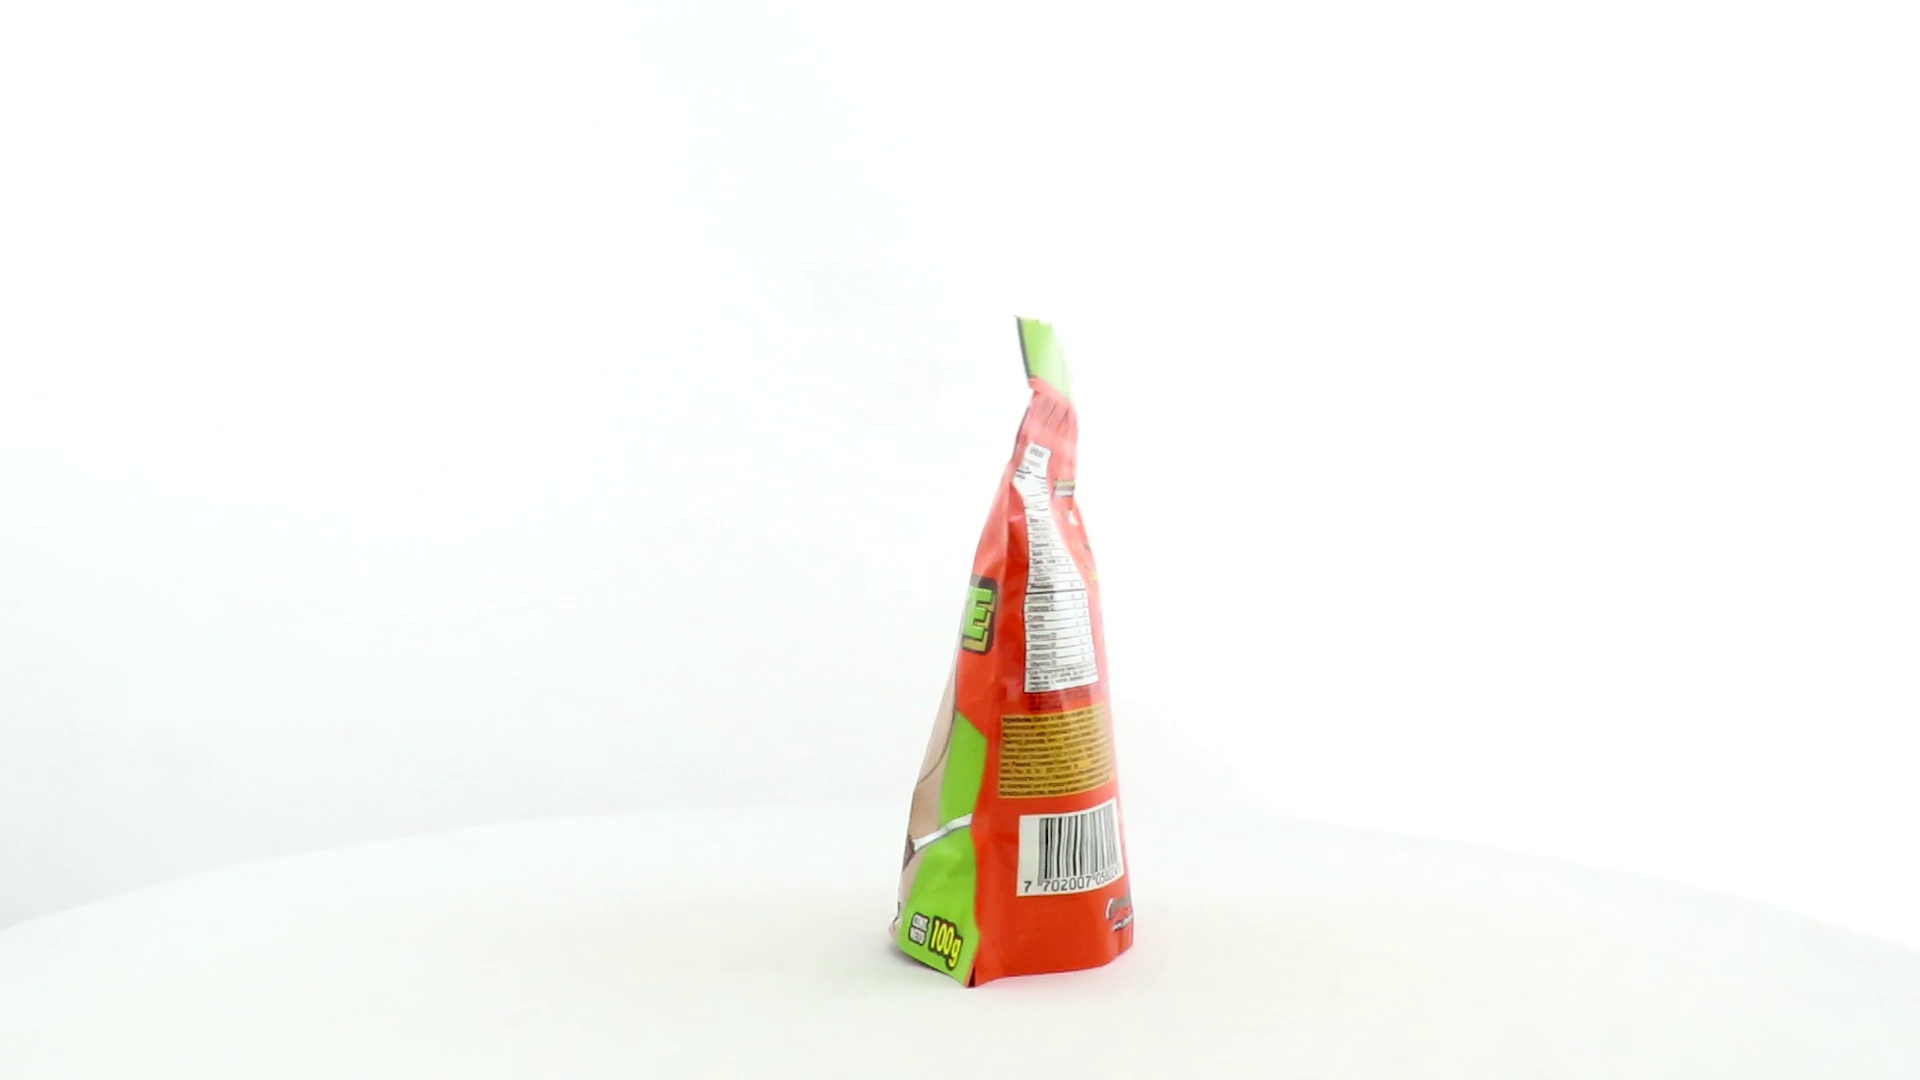COL0170102DYP10000: (880, 311, 1139, 996)
